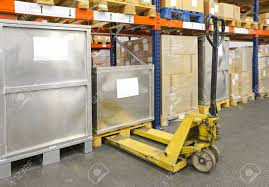Pallet Jack: (92, 14, 228, 175)
